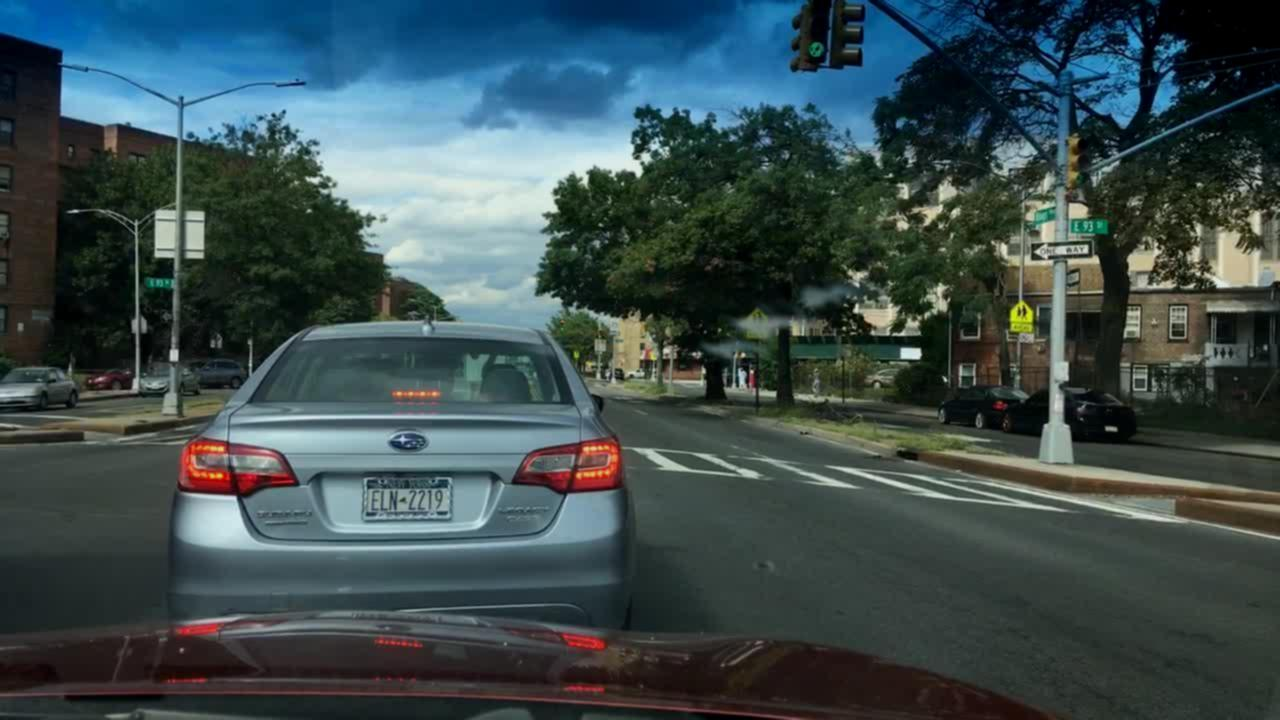subaru: (383, 429, 437, 457)
